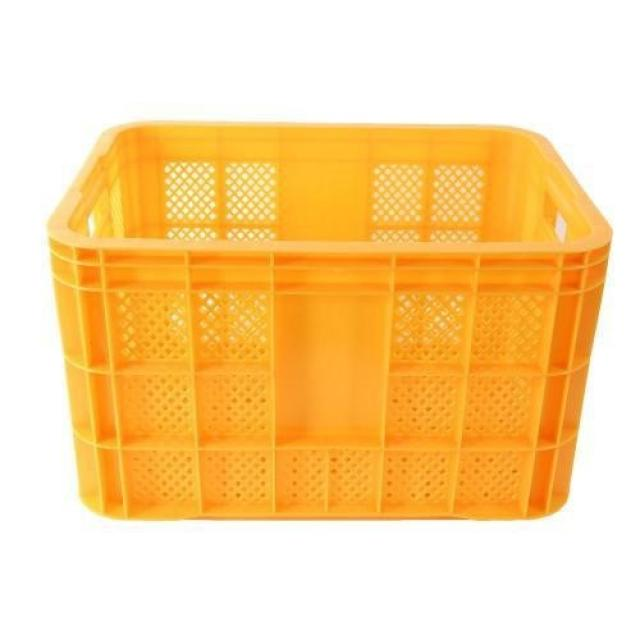basket: (47, 122, 614, 520)
